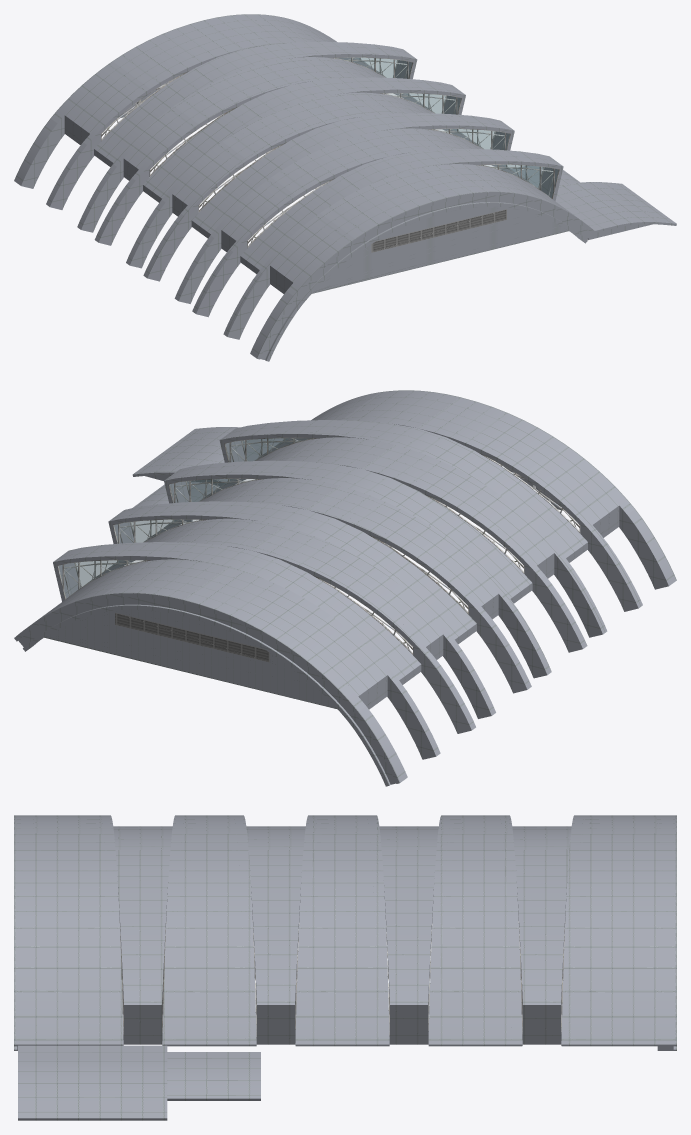
File: gymnasium-ROOF.glb
3 renders of one model, top to bottom at view 1: azimuth 30°, elevation 25°; view 2: azimuth 150°, elevation 25°; view 3: azimuth 270°, elevation 25°, orthographic. The views are drawn at different scales.
Visible parts, largest first — view 1: 뚜껑원본 아래기준001, 뚜껑원본 반대002, Shape003, 뚜껑원본 아래기준005, Line187, Shape008, Line304; view 2: 뚜껑원본 아래기준001, 뚜껑원본 반대002, Shape003, 뚜껑원본 아래기준005, Line187, Shape009, Line304; view 3: 뚜껑원본 아래기준001, 뚜껑원본 반대002, Line187, 뚜껑원본 아래기준005.
Boxes of the visible parts, box(x1,y1,x2,y2) form: 뚜껑원본 아래기준001: box(14, 14, 595, 361); 뚜껑원본 반대002: box(94, 41, 563, 274); Shape003: box(119, 57, 568, 293); 뚜껑원본 아래기준005: box(101, 57, 559, 247); Line187: box(511, 165, 676, 239); Shape008: box(371, 209, 506, 252); Line304: box(101, 57, 553, 243); 뚜껑원본 아래기준001: box(14, 390, 676, 786); 뚜껑원본 반대002: box(53, 420, 587, 684); Shape003: box(44, 438, 562, 708); 뚜껑원본 아래기준005: box(57, 437, 580, 655); Line187: box(132, 427, 283, 521); Shape009: box(115, 612, 269, 662); Line304: box(64, 438, 579, 649); 뚜껑원본 아래기준001: box(14, 815, 676, 1050); 뚜껑원본 반대002: box(113, 826, 571, 1044); Line187: box(18, 1045, 260, 1120); 뚜껑원본 아래기준005: box(119, 914, 565, 1037).
Bounding box in the file's own units: 62.2 × 16.98 × 62.14.
Materials: 4 (3 with a texture image).
